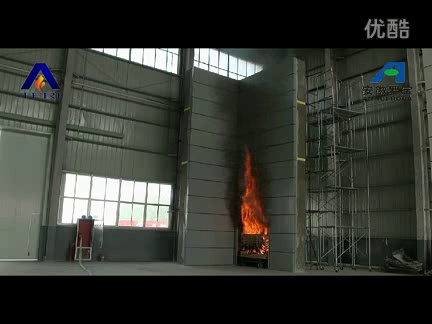fire: (239, 153, 268, 236)
